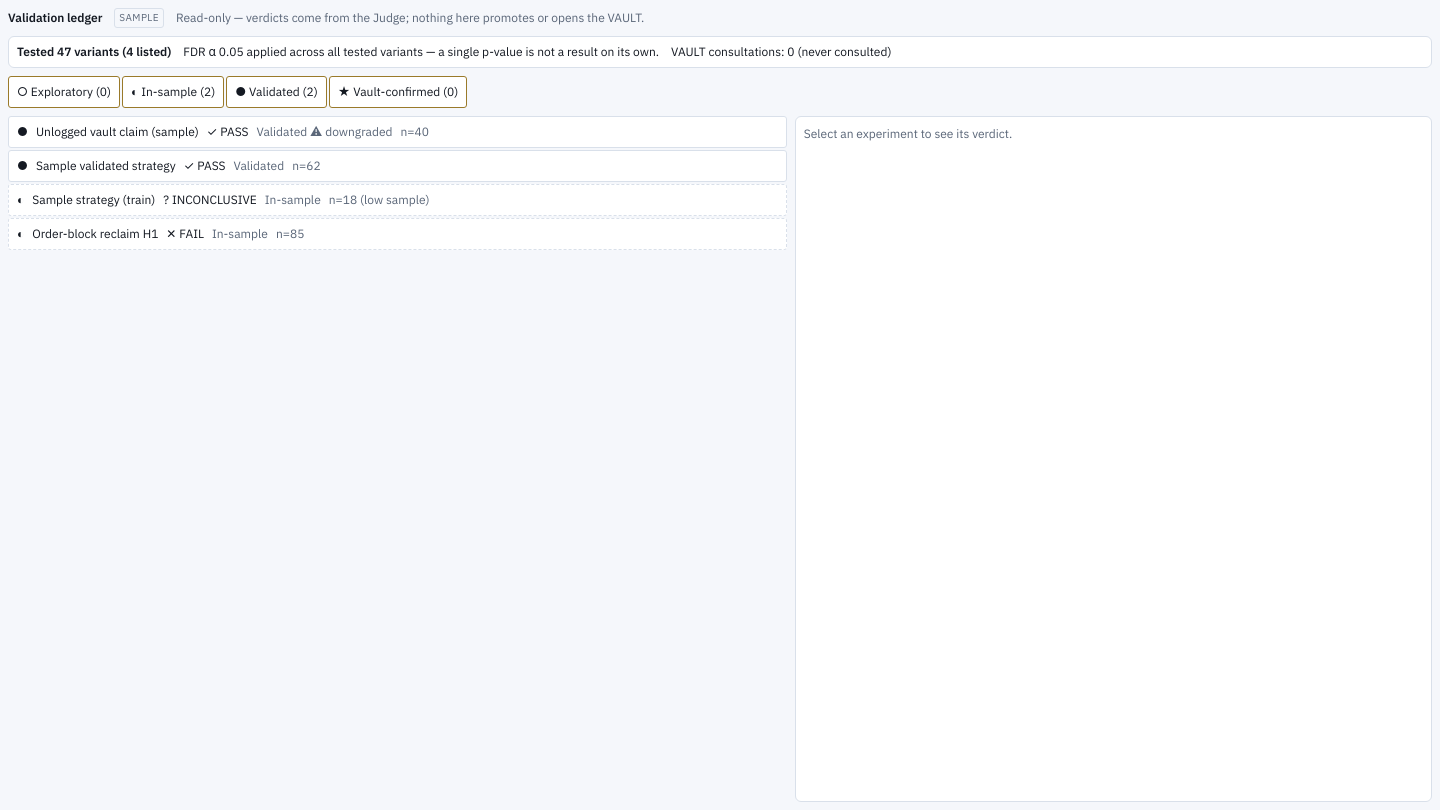
Scenario: F14 AnalyticsRoot (UI, read-only) › tier toggles filter the list only
The image size is (1440, 810).
Expected: the list named "Experiments" is shown, [8,116,787,250]
Click the button "● Validated (2)".
click(276, 92)  # box [226,76,327,108]
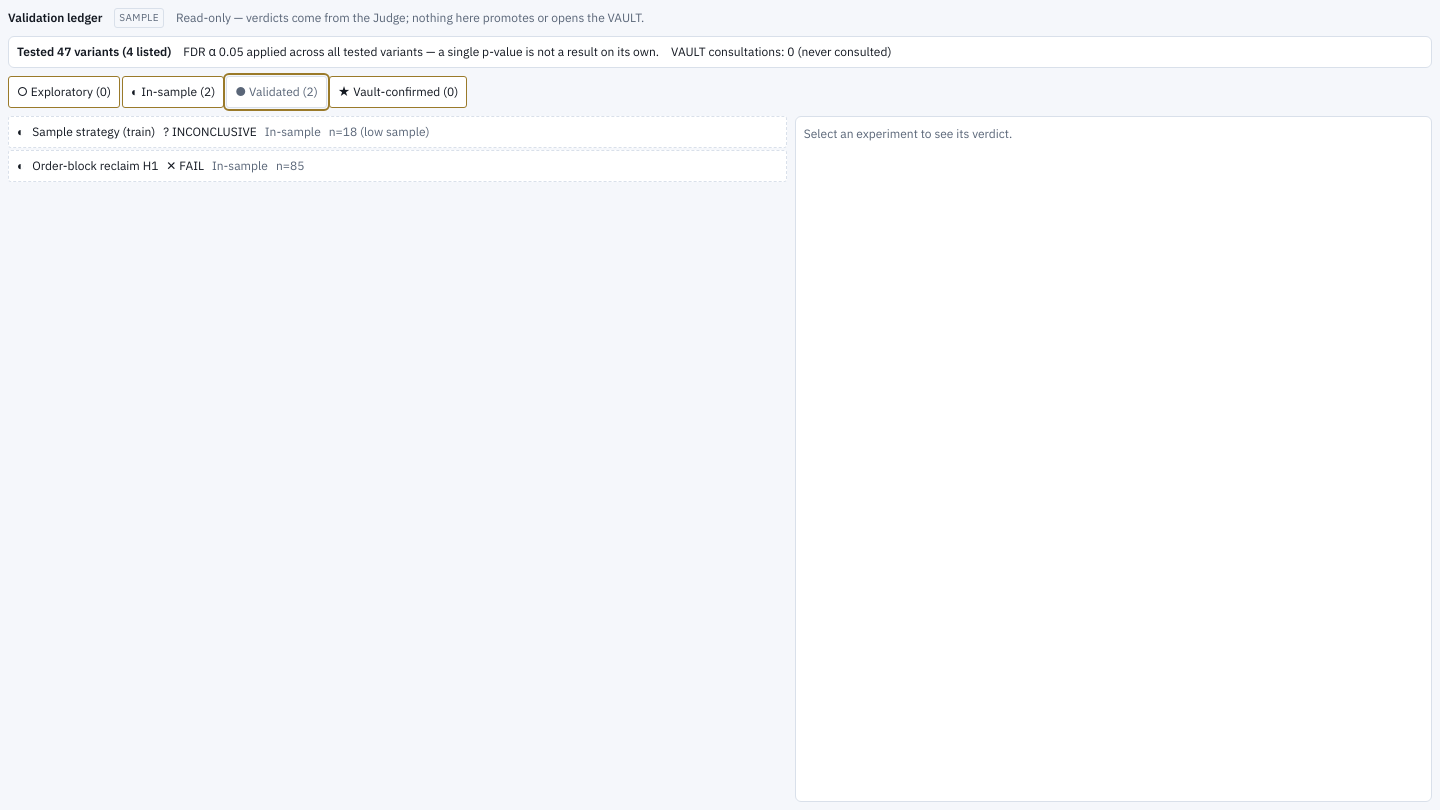
Now the number of list items is 2, box [8,116,787,148]; [8,150,787,182]
